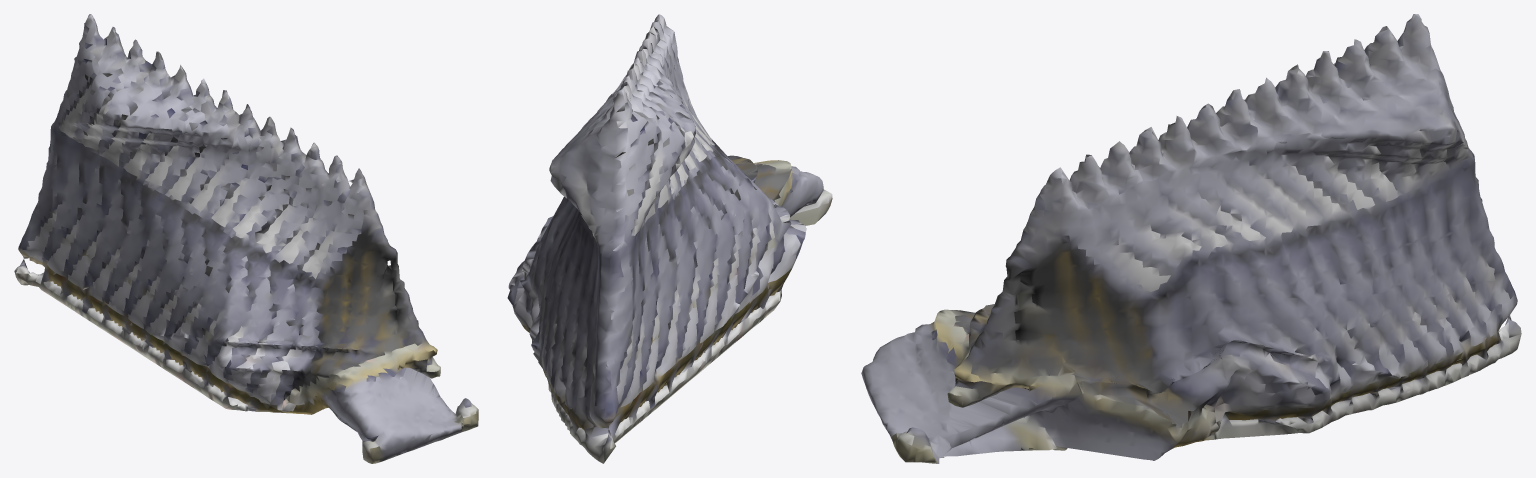
File: air_force_chapel.glb
The picture shows the model from 3 angles, left to right: view 1: azimuth 30°, elevation 25°; view 2: azimuth 150°, elevation 25°; view 3: azimuth 270°, elevation 25°; orthographic projection. The views are drawn at different scales.
Parts seen in each view (by area): view 1: air_force_chapel; view 2: air_force_chapel; view 3: air_force_chapel.
Boxes of the visible parts, box(x1,y1,x2,y2) form: air_force_chapel: box(14, 14, 478, 463); air_force_chapel: box(507, 14, 832, 463); air_force_chapel: box(861, 14, 1521, 463).
Size of what is drawn, in the model's own units: 1.07 by 1.42 by 2.43.
